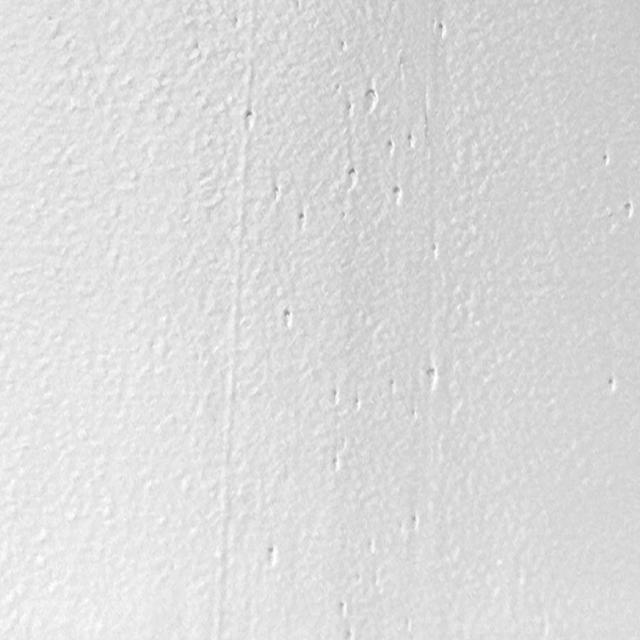pin holes: (263, 542, 281, 570), (421, 364, 439, 390), (364, 87, 381, 114), (278, 308, 296, 332), (333, 599, 351, 622), (621, 199, 638, 223), (241, 109, 257, 133), (345, 164, 359, 187), (392, 185, 405, 208), (408, 512, 422, 533), (329, 388, 343, 408), (330, 454, 344, 474), (606, 375, 620, 393), (599, 152, 612, 170), (436, 22, 449, 39), (298, 212, 310, 230), (384, 139, 395, 158), (337, 40, 350, 56), (344, 100, 354, 120), (271, 186, 282, 204), (405, 133, 416, 150), (343, 626, 356, 639), (231, 16, 243, 30), (432, 238, 438, 262), (352, 396, 362, 410), (389, 377, 397, 393)
